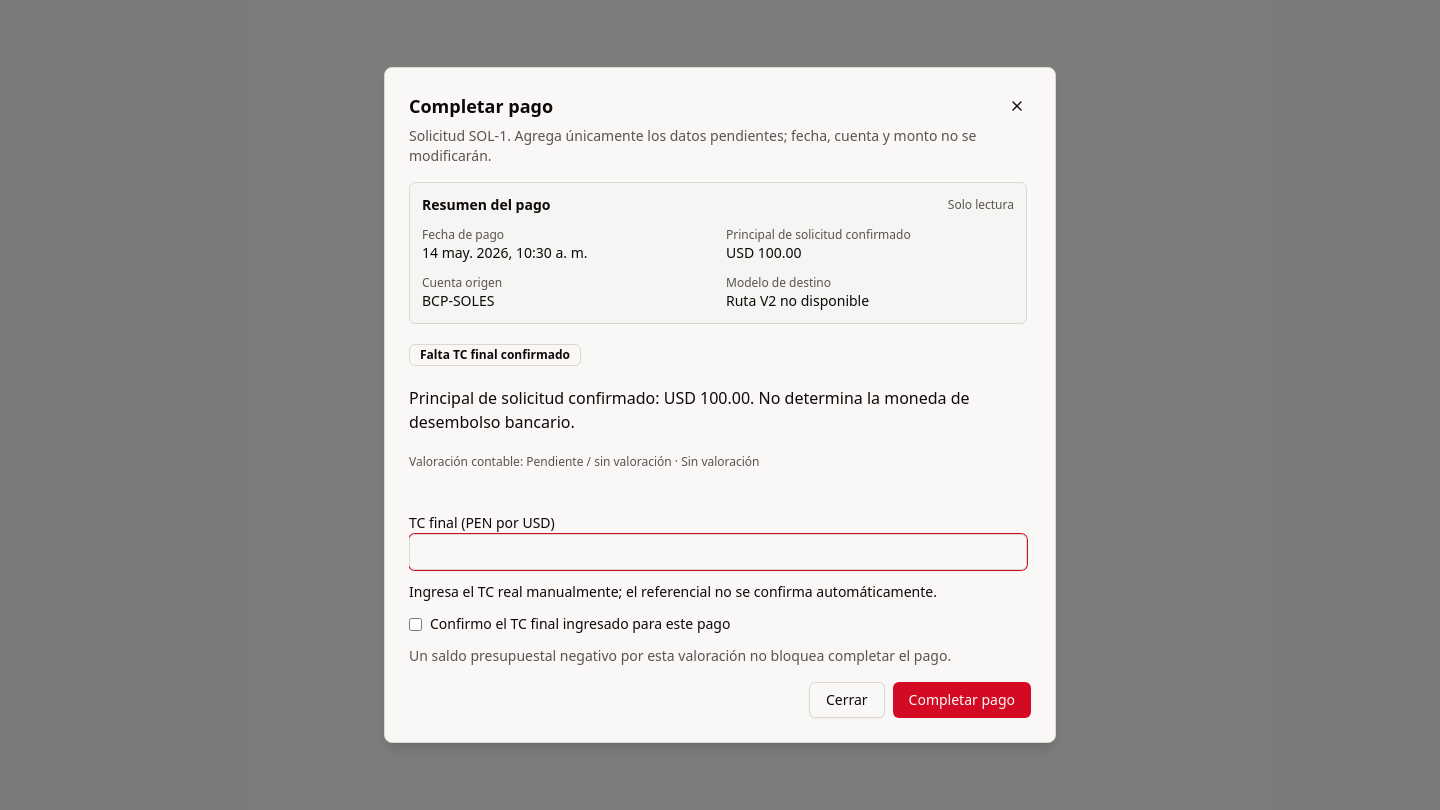
Test: CompletePaymentDetailsModal › rejects invalid USD TC 0 before uploads
Step 1. Type "0" into the field labelled "TC final (PEN por USD)" → (718, 552), box [409, 534, 1027, 570]
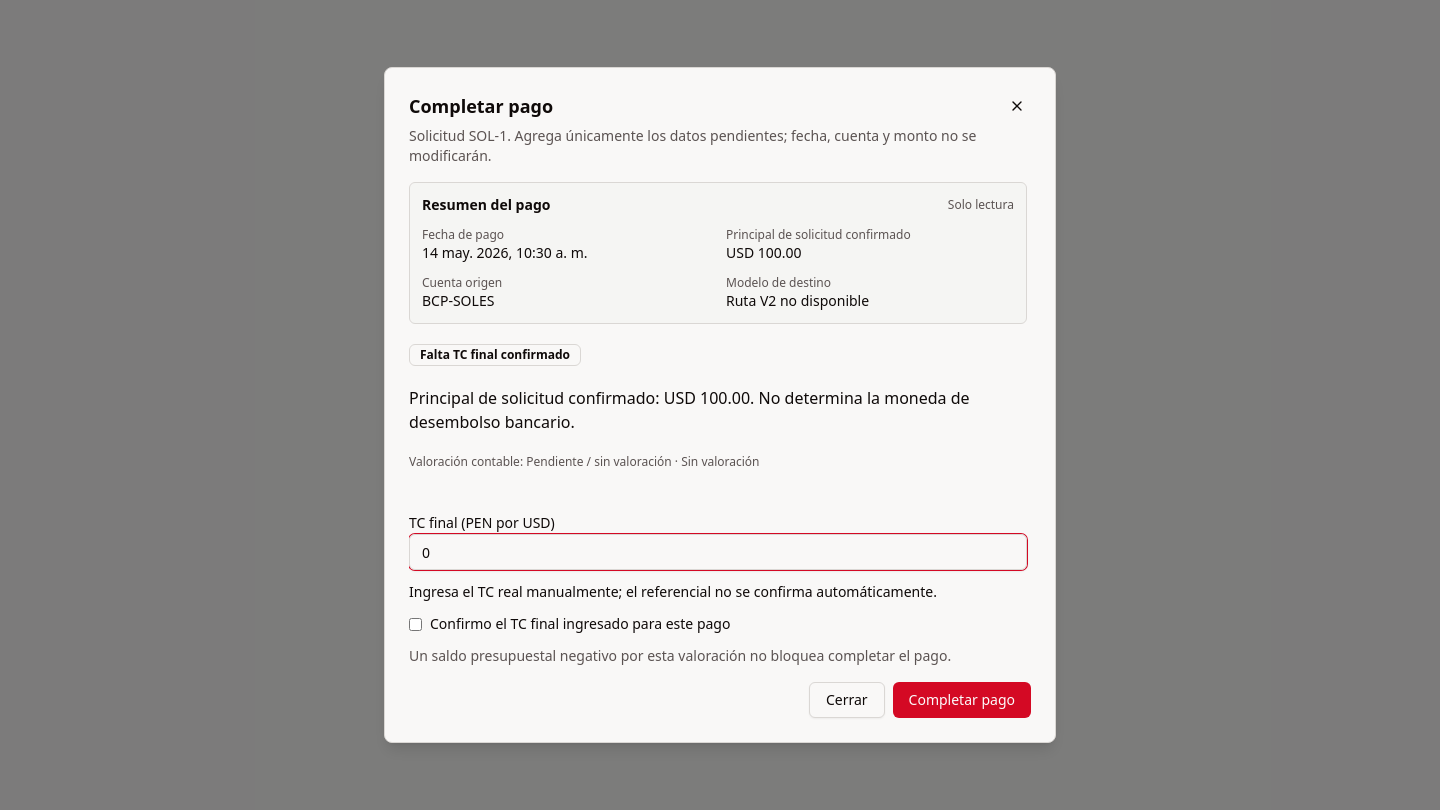
Step 2. Click the checkbox labelled "Confirmo el TC final ingresado para este pago" → (416, 624), box [409, 618, 422, 630]
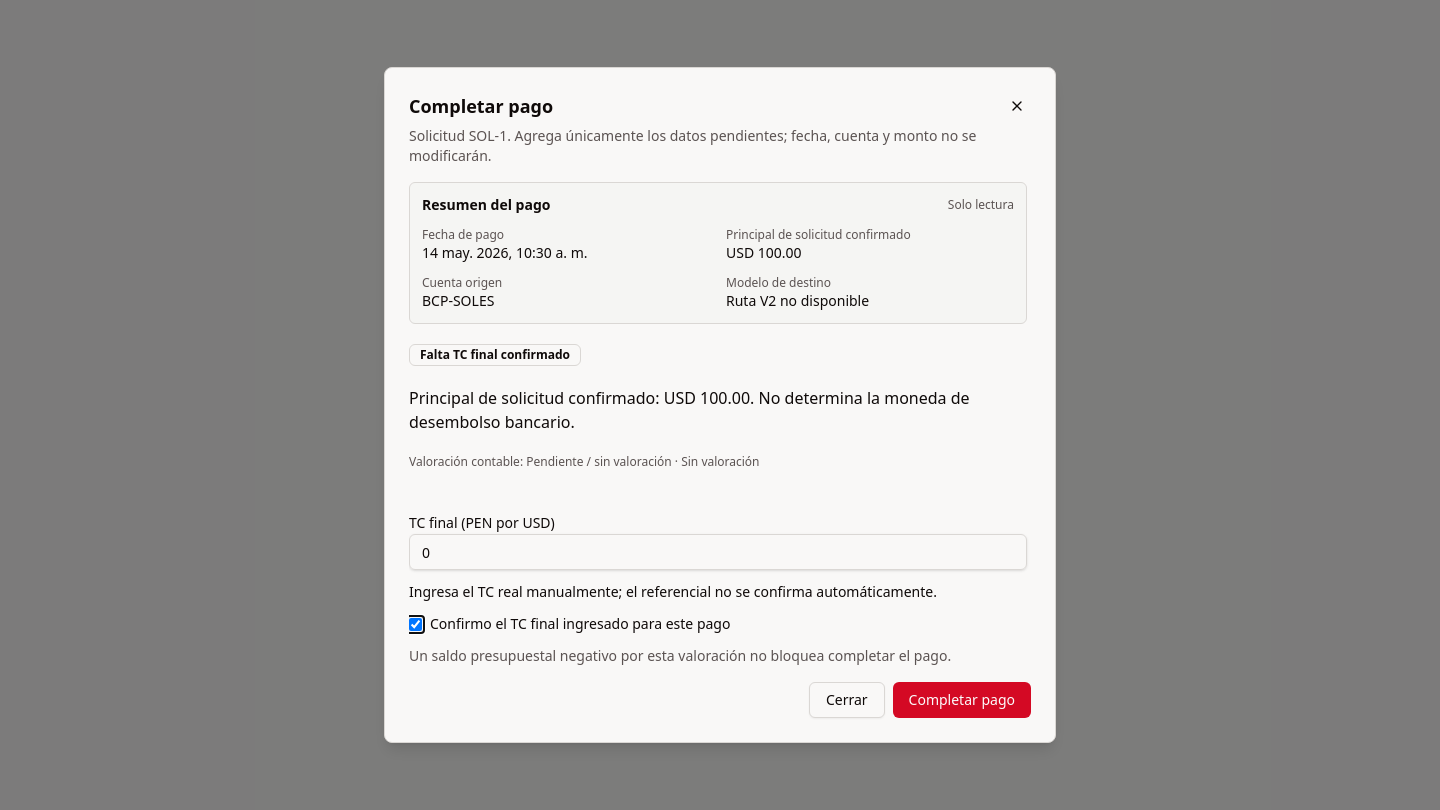
Step 3. Click the button "Completar pago" → (962, 700), box [893, 682, 1031, 718]
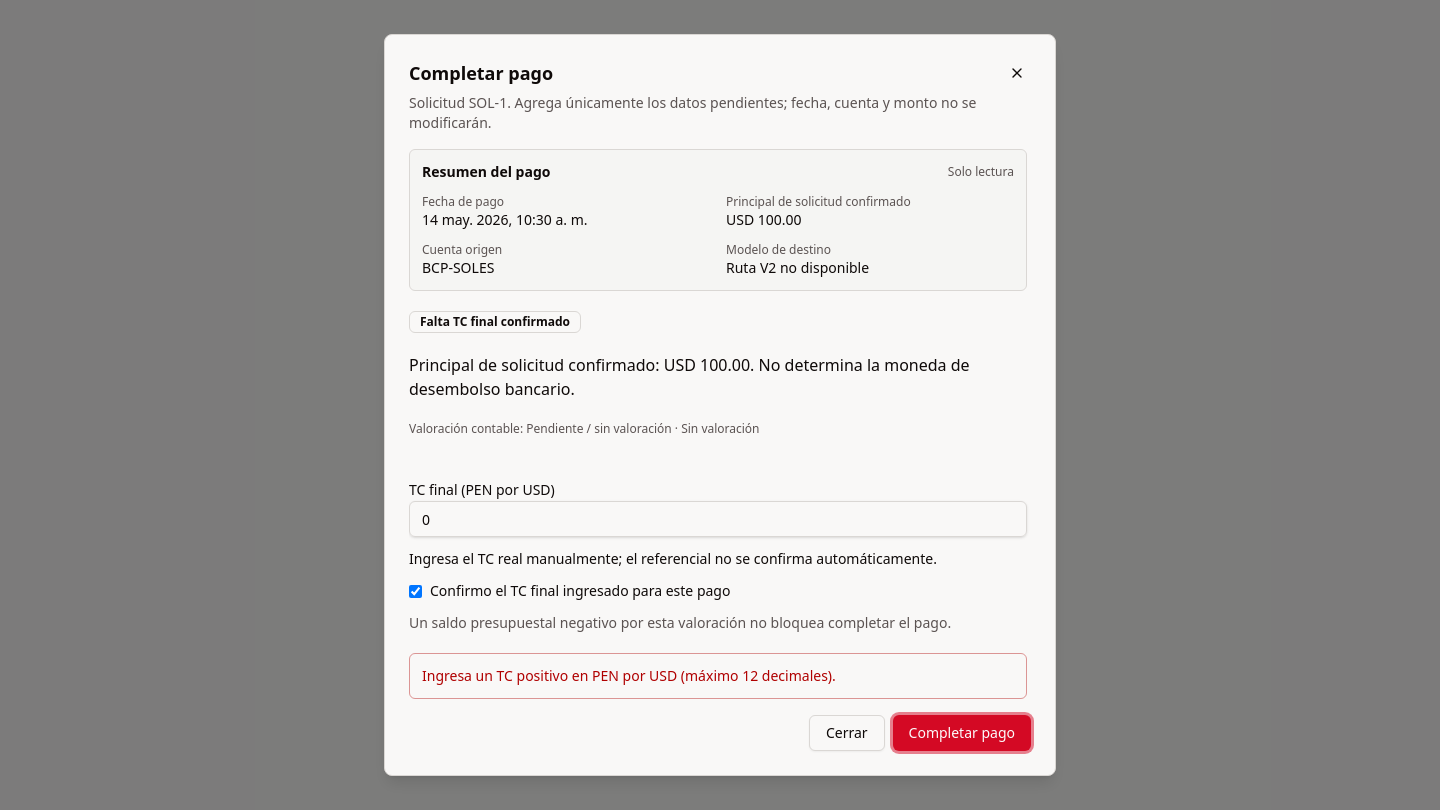
Expected: the message shows "TC positivo", [422, 666, 836, 685]
